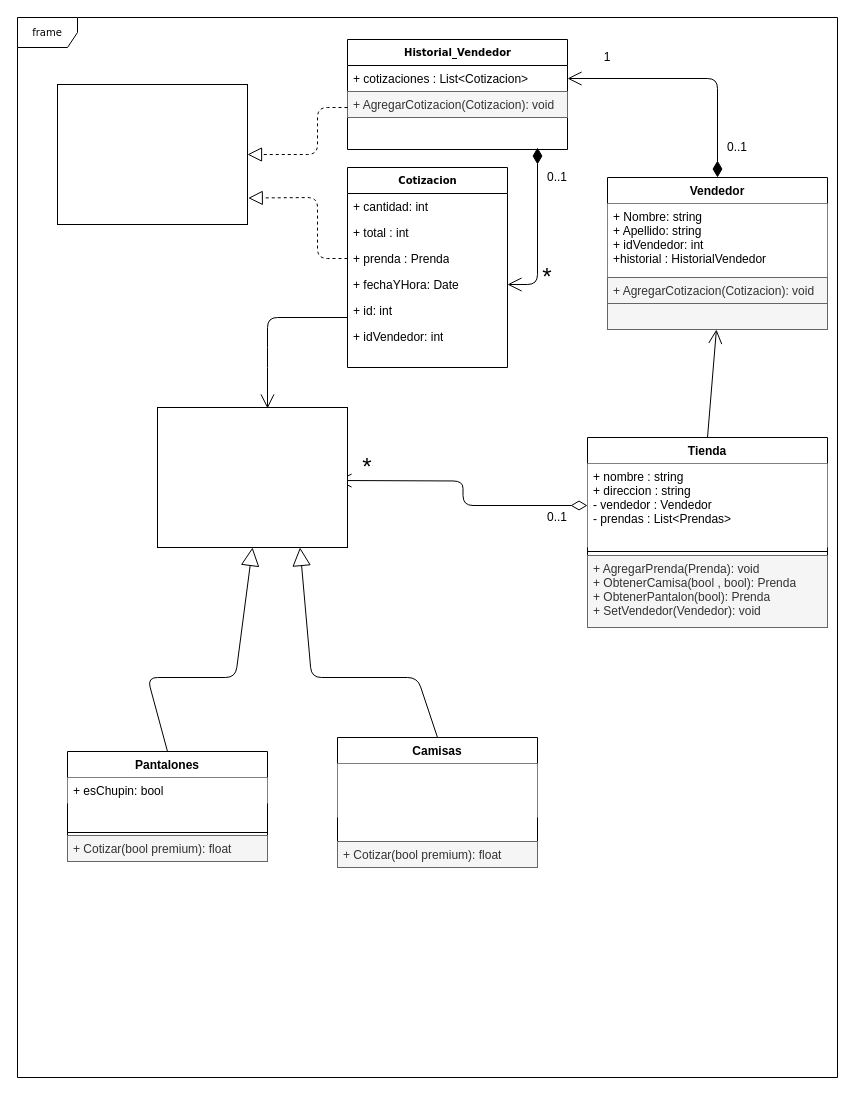
This 855x1095 diagram has some shape labels left out. The centre of each missing label's shape, as x and y in pixels:
+ mangaCorta: bool + cuelloMao : bool: the point at 437,790
<<Abstract>> Prenda + stock: int + precio: float + Cotizar(bool premium): float: the point at 252,477
<<Interface>> IImprimible + Imprimir(): void: the point at 152,154
